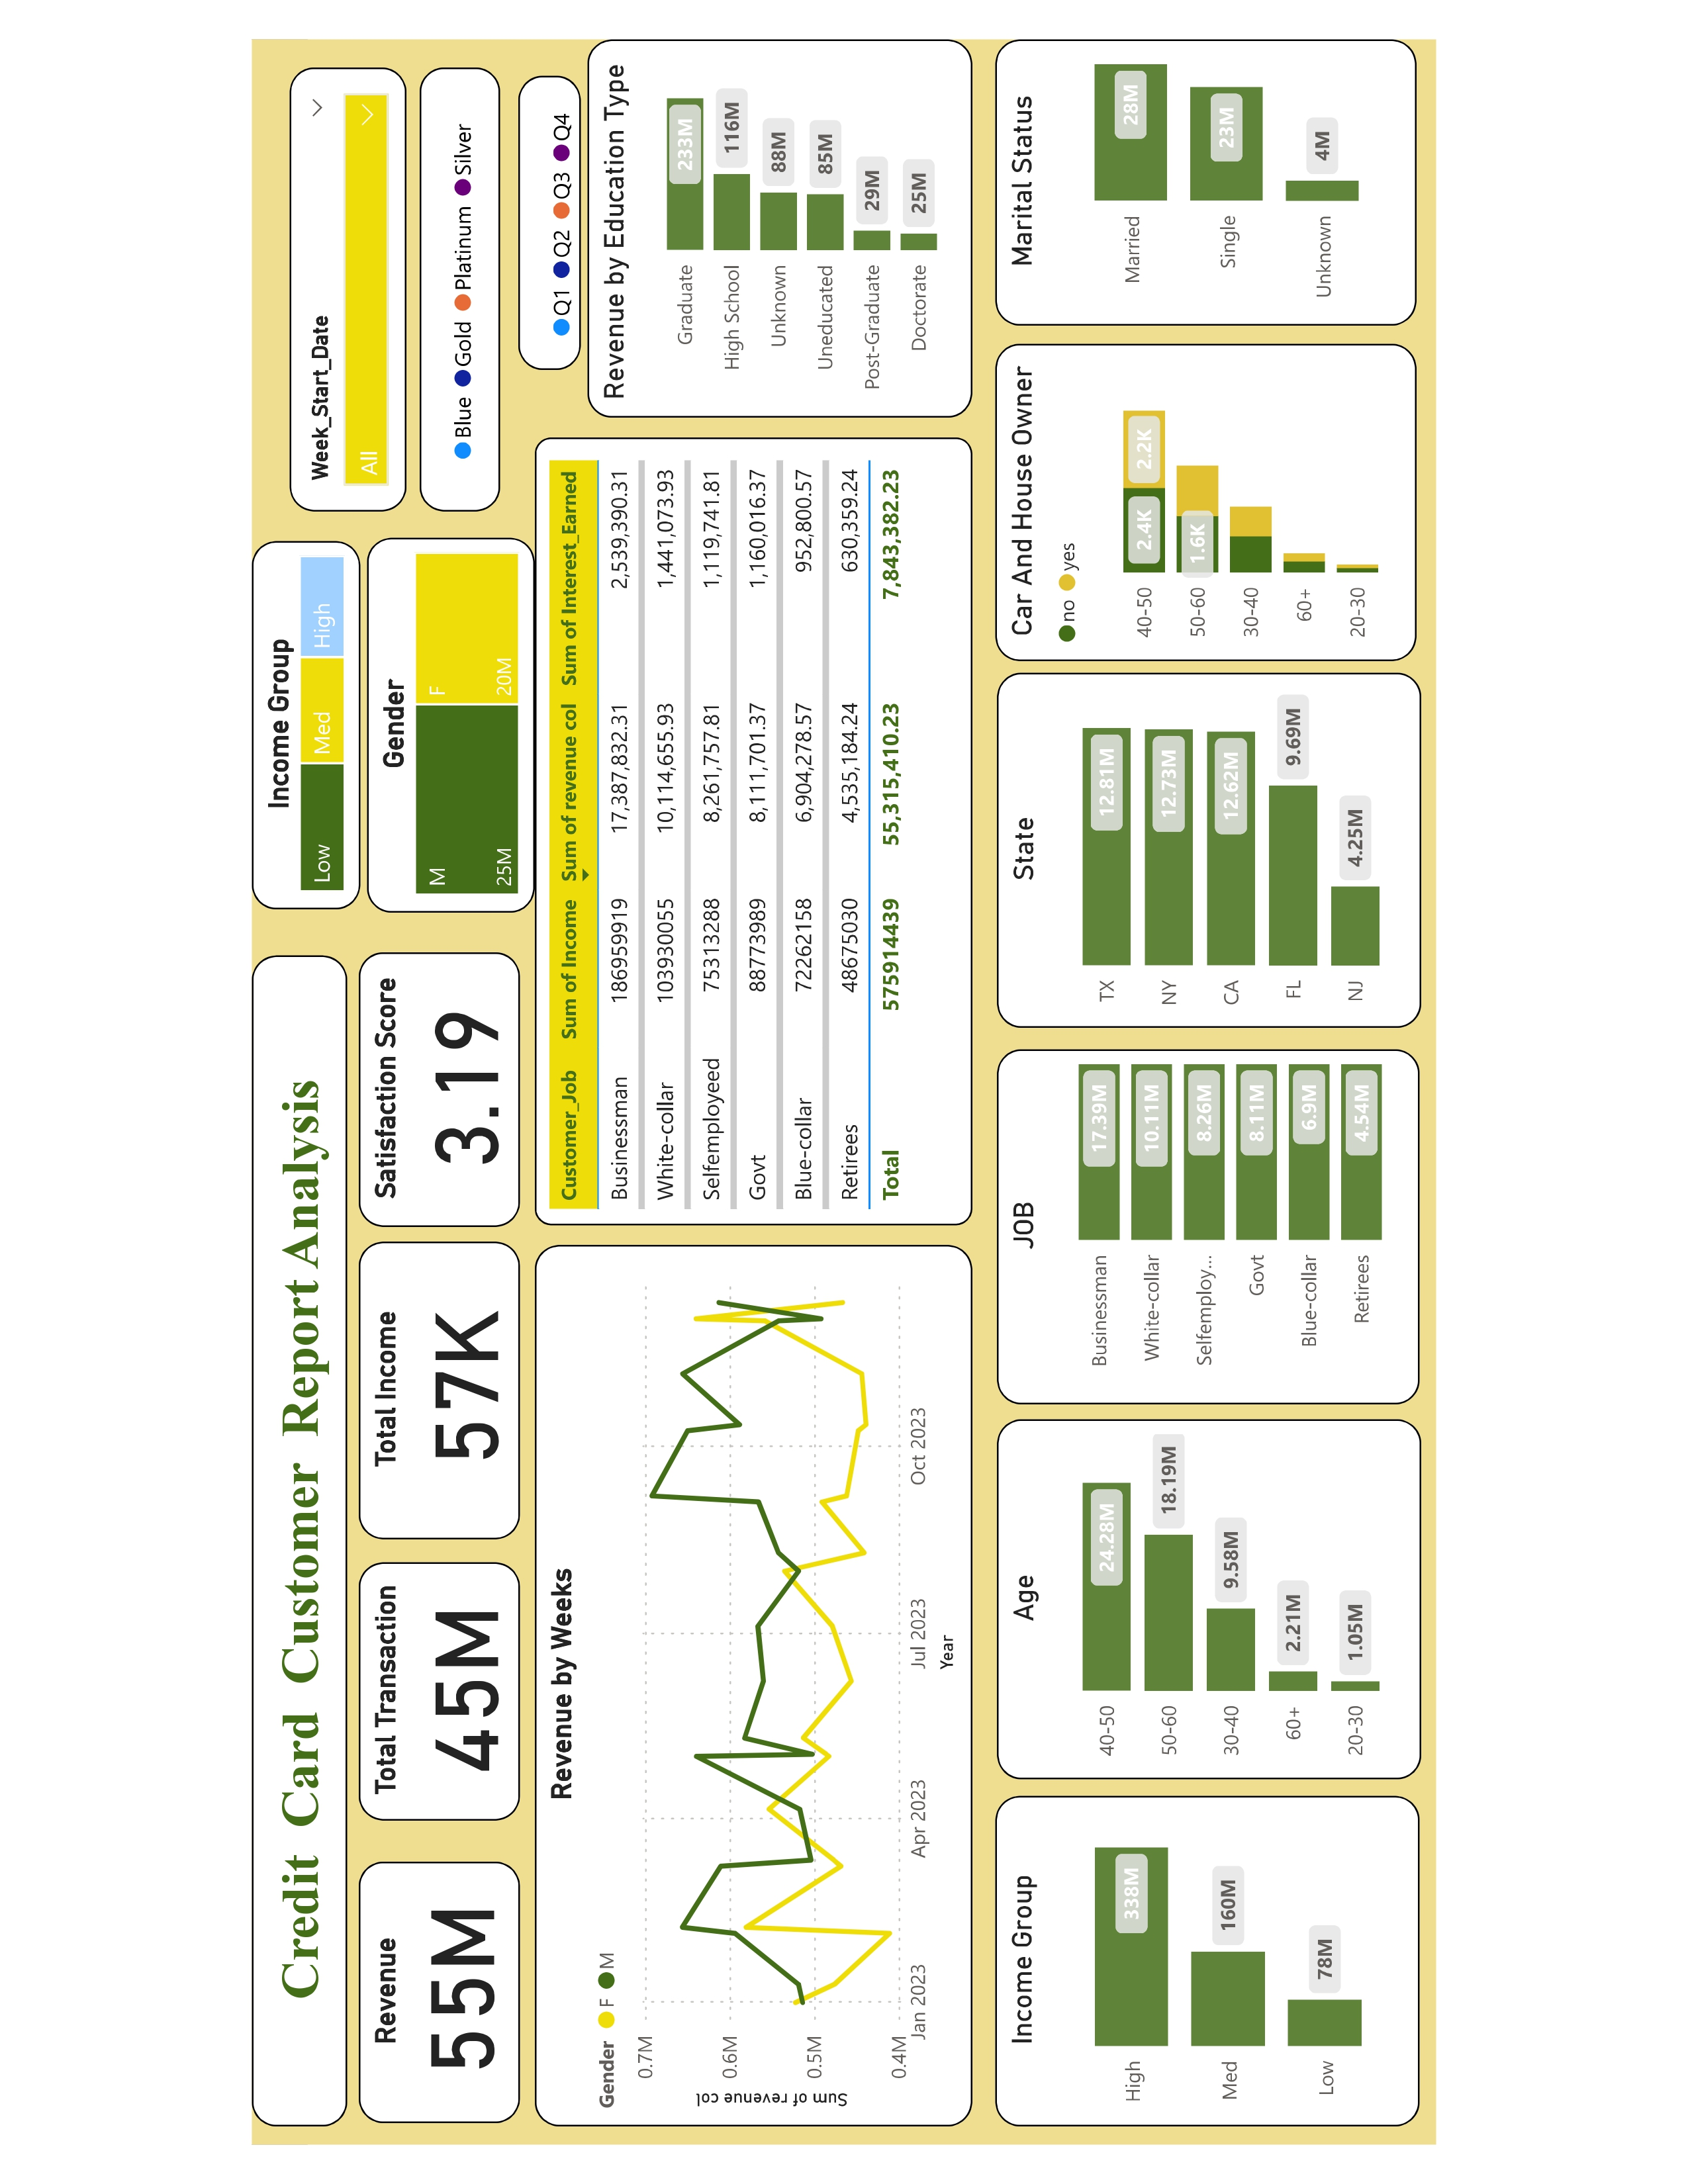

The page's visual inventory and layout, read from the dashboard file:
{"tool":"powerbi","page":{"name":"CC customer","canvas":[1280,720],"ordinal":1},"visuals":[{"type":"textbox","box":[10.6,0,712.4,58.3],"z":0},{"type":"barChart","title":"Income Group","fields":{"Y":["Sum(customer.Income)"],"Category":["customer.Income Grop"]},"box":[10.6,451.6,201.3,258.2],"z":1000},{"type":"barChart","title":"Car And House Owner","fields":{"Category":["customer.Age Group"],"Y":["CountNonNull(customer.Car_Owner)"],"Series":["customer.House_Owner"]},"box":[901.8,451.6,193.3,256.9],"z":2000},{"type":"tableEx","fields":{"Values":["customer.Customer_Job","Sum(customer.Income)","Sum(credit_card.revenue col)","Sum(credit_card.Interest_Earned)"]},"box":[558.8,172.1,479.4,266.2],"z":3000},{"type":"card","title":"Revenue ","fields":{"Values":["Sum(credit_card.revenue col)"]},"box":[12.6,65.5,158.9,98],"z":4000},{"type":"card","title":"Total Transaction","fields":{"Values":["Sum(credit_card.Total_Trans_Amt)"]},"box":[196.7,65.5,157.6,98],"z":5000},{"type":"card","title":"Total Income","fields":{"Values":["Avg(customer.Income)"]},"box":[367.5,65.5,181.4,98],"z":6000},{"type":"card","title":"Satisfaction Score","fields":{"Values":["Avg(customer.Cust_Satisfaction_Score)"]},"box":[558.2,65.5,166.8,98],"z":7000},{"type":"slicer","fields":{"Values":["credit_card.Week_Start_Date"]},"box":[993.1,22.5,270.1,71.5],"z":8000},{"type":"treemap","title":"Quater","fields":{"Group":["credit_card.Qtr"],"Details":["credit_card.Client_Num"]},"box":[1079.2,161.6,178.8,38.4],"z":9000},{"type":"treemap","title":"Gender","fields":{"Group":["customer.Gender"],"Values":["Sum(credit_card.Total_Trans_Amt)"]},"box":[749.5,70.2,227.8,102],"z":10000},{"type":"treemap","title":"Card Category","fields":{"Group":["credit_card.Card_Category"]},"box":[993.1,102,270.1,49],"z":11000},{"type":"treemap","title":"Income Group","fields":{"Group":["customer.Income Grop"],"Values":["Sum(credit_card.Customer_Acq_Cost)"]},"box":[750.8,0,223.8,66.2],"z":12000},{"type":"lineChart","title":"Revenue by Weeks","fields":{"Y":["Sum(credit_card.revenue col)"],"Series":["customer.Gender"],"Category":["credit_card.Week_Start_Date.Variation.Date Hierarchy.Year","credit_card.Week_Start_Date.Variation.Date Hierarchy.Month","credit_card.Week_Start_Date.Variation.Date Hierarchy.Day"]},"box":[10.6,172.1,536.3,266.2],"z":13000},{"type":"barChart","title":" Age","fields":{"Category":["customer.Age Group"],"Y":["Sum(credit_card.revenue col)"]},"box":[222.5,452.9,218.5,258.2],"z":14000},{"type":"barChart","title":"JOB","fields":{"Category":["customer.Customer_Job"],"Y":["Sum(credit_card.revenue col)"]},"box":[450.2,452.9,215.8,256.9],"z":15000},{"type":"barChart","title":"Revenue by Education Type","fields":{"Y":["Sum(customer.Income)"],"Category":["customer.Education_Level"]},"box":[1050.1,203.9,230.4,234.4],"z":16000},{"type":"barChart","title":"State","fields":{"Category":["customer.state_cd"],"Y":["Sum(credit_card.revenue col)"]},"box":[679.3,452.9,215.8,258.2],"z":17000},{"type":"barChart","title":"Marital Status","fields":{"Y":["Sum(credit_card.revenue col)"],"Category":["customer.Marital_Status"]},"box":[1105.7,451.6,174.8,256.9],"z":18000}]}

Visuals, with their boxes on the page's 1280x720 design canvas (x1, y1, x2, y2). These are canvas units, not pixel positions in the 1688x2184 screenshot, which may show the page scaled, cropped or inside an application window:
textbox: l=11, t=0, r=723, b=58
"Income Group" barChart: l=11, t=452, r=212, b=710
"Car And House Owner" barChart: l=902, t=452, r=1095, b=708
tableEx - customer.Customer_Job x Sum(customer.Income): l=559, t=172, r=1038, b=438
"Revenue " card: l=13, t=66, r=172, b=164
"Total Transaction" card: l=197, t=66, r=354, b=164
"Total Income" card: l=368, t=66, r=549, b=164
"Satisfaction Score" card: l=558, t=66, r=725, b=164
slicer - credit_card.Week_Start_Date: l=993, t=22, r=1263, b=94
"Quater" treemap: l=1079, t=162, r=1258, b=200
"Gender" treemap: l=750, t=70, r=977, b=172
"Card Category" treemap: l=993, t=102, r=1263, b=151
"Income Group" treemap: l=751, t=0, r=975, b=66
"Revenue by Weeks" lineChart: l=11, t=172, r=547, b=438
" Age" barChart: l=222, t=453, r=441, b=711
"JOB" barChart: l=450, t=453, r=666, b=710
"Revenue by Education Type" barChart: l=1050, t=204, r=1280, b=438
"State" barChart: l=679, t=453, r=895, b=711
"Marital Status" barChart: l=1106, t=452, r=1280, b=708
